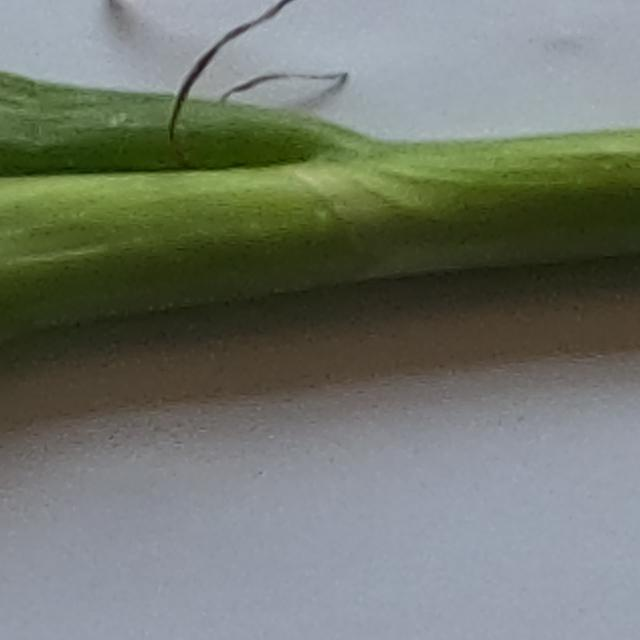green_onion: (0, 80, 640, 379)
